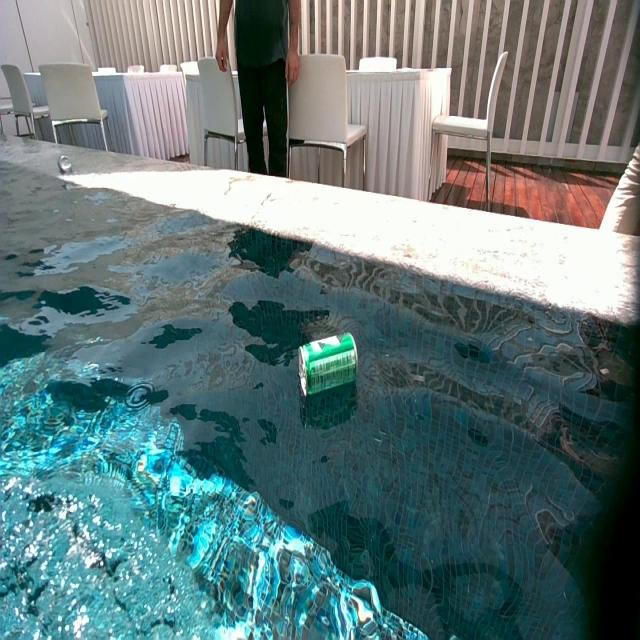Cans: (302, 331, 359, 400), (60, 155, 72, 173)
